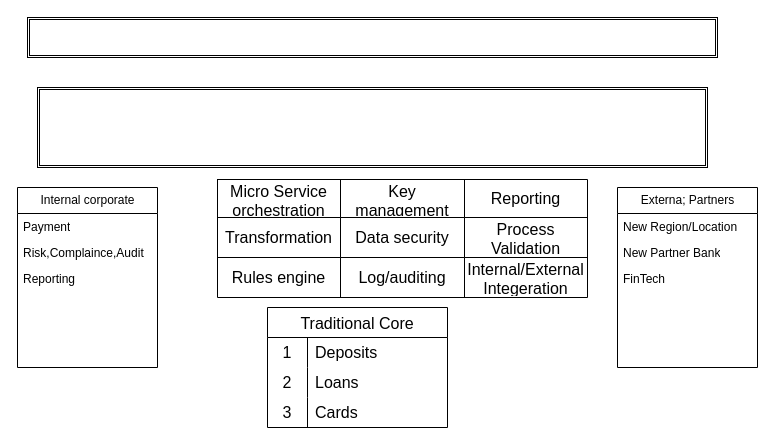
This 775x445 diagram has some shape labels left out. Here are the shapes that lost their labels. From the top down, the centre of each, then its label:
At point (372, 37): "Architecthure".
At point (372, 127): "Channels".
